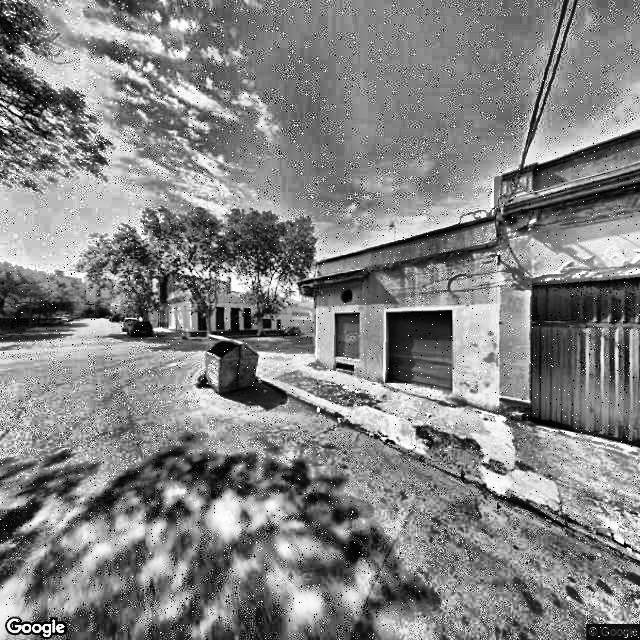Dustbin: (194, 335, 270, 400)
